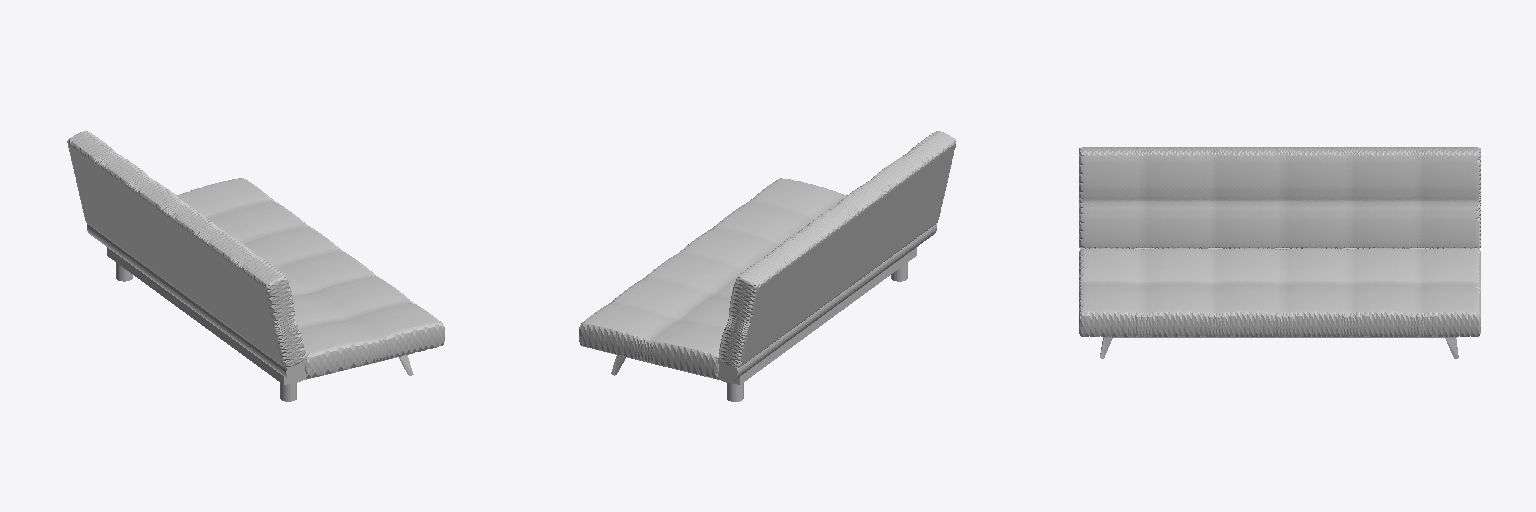
File: HOLSTEBRO.obj
The picture shows the model from 3 angles: view 1: azimuth 30°, elevation 25°; view 2: azimuth 150°, elevation 25°; view 3: azimuth 270°, elevation 25°; orthographic projection.
Visible parts, largest first — view 1: Куб.001, Куб, Цилиндр.002, Куб.004; view 2: Куб.001, Куб, Цилиндр.002, Куб.004; view 3: Куб.001, Куб.
Boxes of the visible parts, box(x1,y1,x2,y2) form: Куб.001: box(67, 131, 304, 367); Куб: box(177, 178, 444, 378); Цилиндр.002: box(87, 224, 306, 382); Куб.004: box(107, 247, 405, 384); Куб.001: box(719, 131, 956, 367); Куб: box(579, 178, 846, 378); Цилиндр.002: box(717, 223, 936, 382); Куб.004: box(618, 247, 916, 384); Куб.001: box(1079, 147, 1480, 248); Куб: box(1079, 248, 1480, 336).
Bounding box in the file's own units: 1.85 × 1.38 × 3.59.